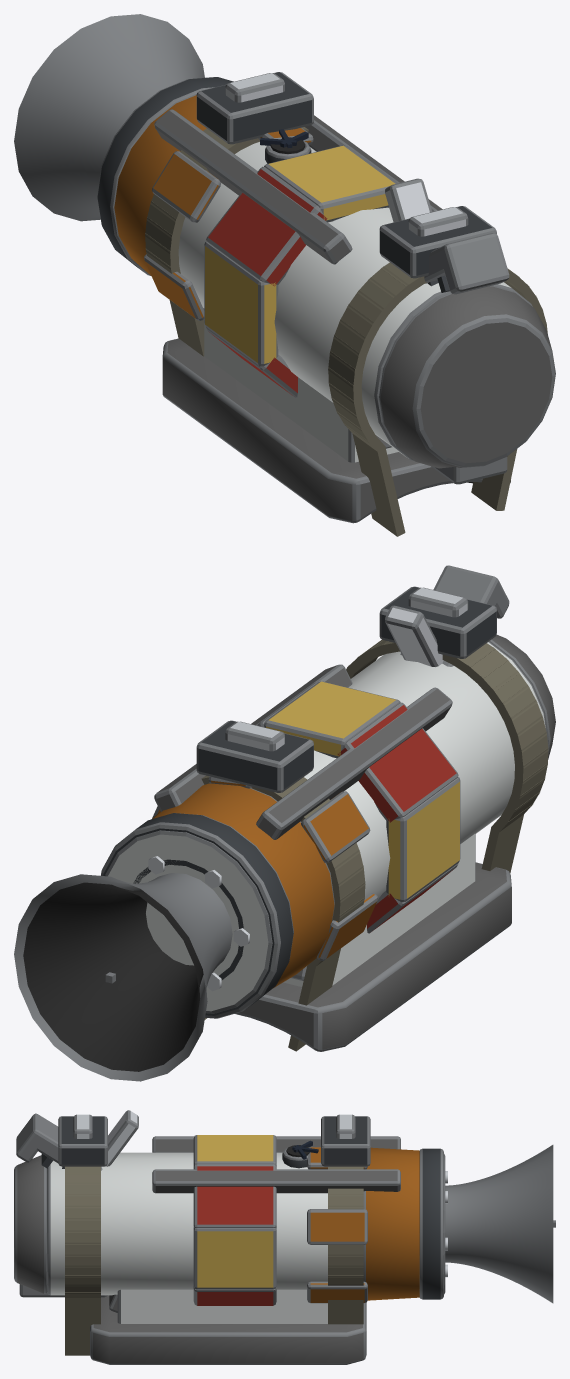
Rendered from strap_on_booster_spent.fbx.
The picture shows the model from 3 angles, top to bottom: view 1: azimuth 30°, elevation 25°; view 2: azimuth 150°, elevation 25°; view 3: azimuth 270°, elevation 25°; orthographic projection. The views are drawn at different scales.
Visible parts, largest first — view 1: Mesh_StrapOnBooster_Casing, Mesh_DeviceNozzle_Bell, Mesh_StrapOnBooster_HazardBand, Mesh_DeviceClamp_Pad, Mesh_StrapOnBooster_StrapFore, Mesh_StrapOnBooster_StrapAft, Mesh_StrapOnBooster_Scorch, Mesh_DeviceClamp_JawMoving, Mesh_StrapOnBooster_Cradle, Mesh_StrapOnBooster_LampSpent, Mesh_DeviceClamp_JawFixed; view 2: Mesh_StrapOnBooster_Casing, Mesh_DeviceNozzle_Bell, Mesh_StrapOnBooster_HazardBand, Mesh_DeviceClamp_Pad, Mesh_StrapOnBooster_Scorch, Mesh_StrapOnBooster_StrapFore, Mesh_StrapOnBooster_StrapAft, Mesh_StrapOnBooster_Cradle, Mesh_DeviceClamp_JawMoving; view 3: Mesh_StrapOnBooster_Casing, Mesh_StrapOnBooster_HazardBand, Mesh_DeviceNozzle_Bell, Mesh_DeviceClamp_Pad, Mesh_StrapOnBooster_Scorch, Mesh_StrapOnBooster_StrapFore, Mesh_StrapOnBooster_StrapAft, Mesh_StrapOnBooster_Cradle, Mesh_DeviceClamp_JawMoving, Mesh_StrapOnBooster_LampSpent.
Boxes of the visible parts, <box> form: Mesh_StrapOnBooster_Casing: <box>97,77,555,468</box>; Mesh_DeviceNozzle_Bell: <box>14,14,204,221</box>; Mesh_StrapOnBooster_HazardBand: <box>204,145,399,397</box>; Mesh_DeviceClamp_Pad: <box>162,338,510,523</box>; Mesh_StrapOnBooster_StrapFore: <box>328,206,547,536</box>; Mesh_StrapOnBooster_StrapAft: <box>145,72,313,356</box>; Mesh_StrapOnBooster_Scorch: <box>114,95,313,320</box>; Mesh_DeviceClamp_JawMoving: <box>385,178,509,294</box>; Mesh_StrapOnBooster_Cradle: <box>203,308,398,462</box>; Mesh_StrapOnBooster_LampSpent: <box>260,129,311,163</box>; Mesh_DeviceClamp_JawFixed: <box>431,457,507,484</box>; Mesh_StrapOnBooster_Casing: <box>101,634,555,1018</box>; Mesh_DeviceNozzle_Bell: <box>14,856,249,1081</box>; Mesh_StrapOnBooster_HazardBand: <box>257,681,460,933</box>; Mesh_DeviceClamp_Pad: <box>235,862,511,1051</box>; Mesh_StrapOnBooster_Scorch: <box>152,776,377,987</box>; Mesh_StrapOnBooster_StrapFore: <box>346,586,548,873</box>; Mesh_StrapOnBooster_StrapAft: <box>196,720,365,1051</box>; Mesh_StrapOnBooster_Cradle: <box>283,833,475,986</box>; Mesh_DeviceClamp_JawMoving: <box>385,565,509,666</box>; Mesh_StrapOnBooster_Casing: <box>14,1136,445,1299</box>; Mesh_StrapOnBooster_HazardBand: <box>193,1135,276,1305</box>; Mesh_DeviceNozzle_Bell: <box>445,1145,553,1303</box>; Mesh_DeviceClamp_Pad: <box>90,1295,366,1364</box>; Mesh_StrapOnBooster_Scorch: <box>307,1147,419,1303</box>; Mesh_StrapOnBooster_StrapFore: <box>58,1114,107,1355</box>; Mesh_StrapOnBooster_StrapAft: <box>321,1114,370,1324</box>; Mesh_StrapOnBooster_Cradle: <box>109,1289,327,1323</box>; Mesh_DeviceClamp_JawMoving: <box>16,1110,138,1170</box>; Mesh_StrapOnBooster_LampSpent: <box>282,1140,318,1168</box>.
Size of the model in its own units: 12.1 by 17.8 by 39.2.
